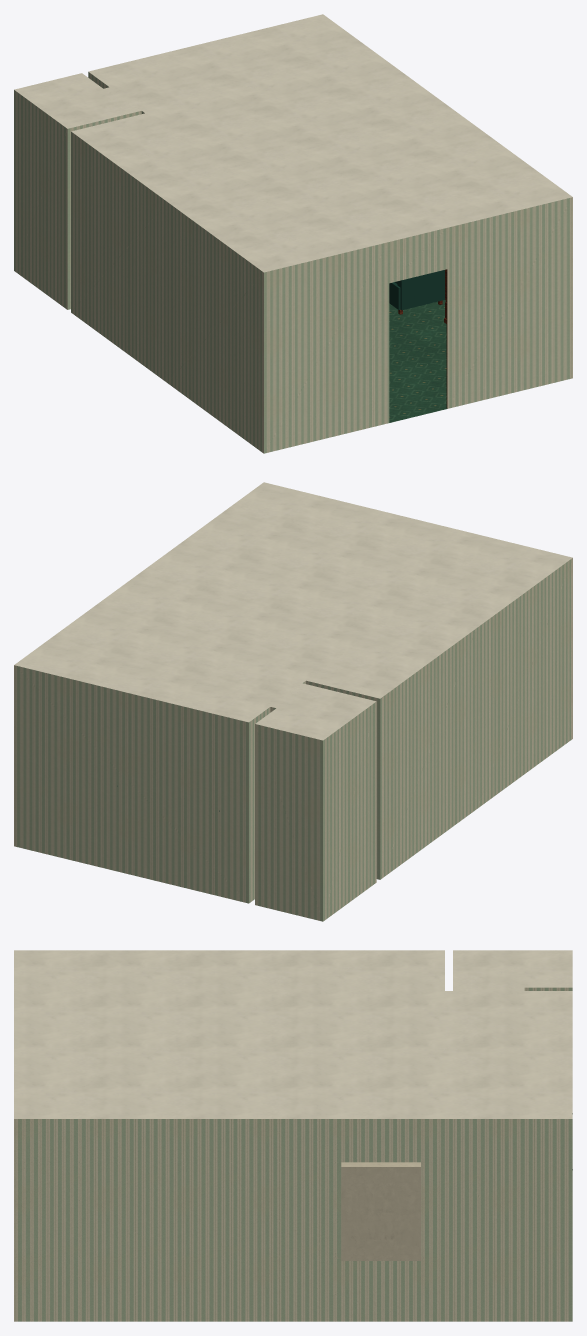
File: green_room.glb
3 renders of one model, top to bottom at view 1: azimuth 30°, elevation 25°; view 2: azimuth 150°, elevation 25°; view 3: azimuth 270°, elevation 25°, orthographic. The views are drawn at different scales.
Parts seen in each view (by area): view 1: Wall_Room.001, Ceiling_Room.001, Carpet_Room.001, Velvet_Green; view 2: Wall_Room.001, Ceiling_Room.001; view 3: Wall_Room.001, Ceiling_Room.001, Window_Frame.
Part boxes in pixels (x1,y1,x2,y2): Wall_Room.001: [14, 72, 572, 453]; Ceiling_Room.001: [14, 14, 572, 272]; Carpet_Room.001: [389, 300, 446, 422]; Velvet_Green: [389, 270, 444, 310]; Wall_Room.001: [14, 558, 572, 921]; Ceiling_Room.001: [14, 482, 572, 740]; Wall_Room.001: [14, 987, 572, 1321]; Ceiling_Room.001: [14, 950, 572, 1118]; Window_Frame: [336, 1162, 424, 1260].
Bounding box in the file's own units: 5.13 × 2.8 × 7.01.
Materials: 23 (16 with a texture image).
